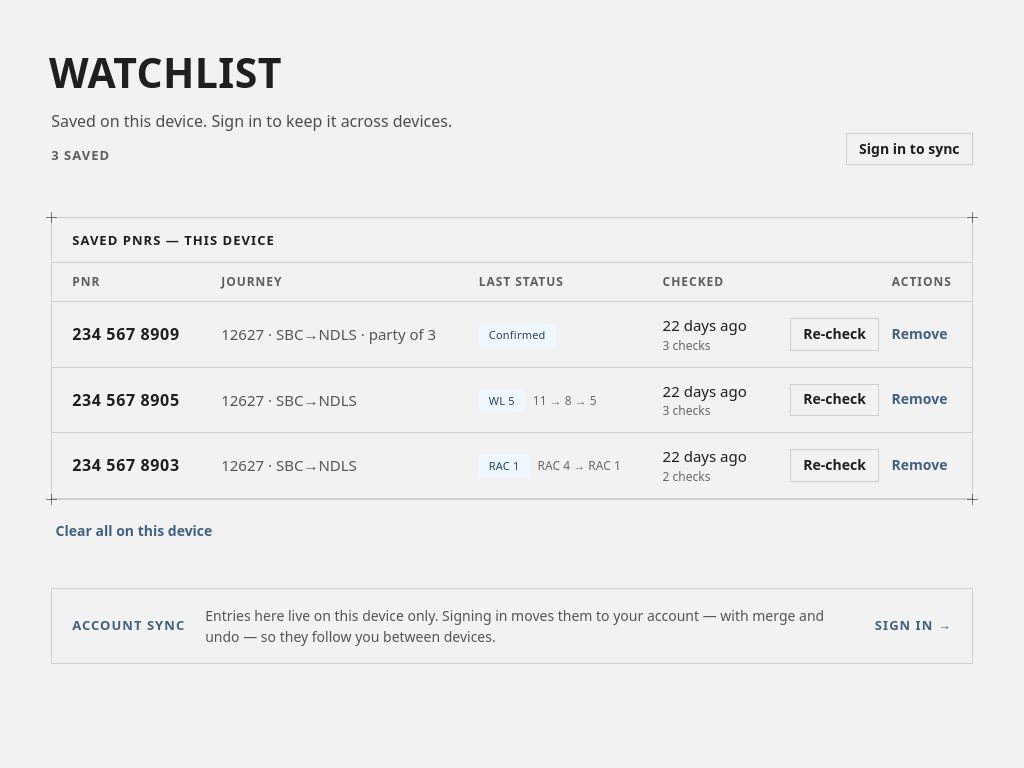
it: WatchlistView — this device › clears every entry on this device
Click the button "Clear all on this device" at x=134, y=532, box [51,516,217,548]
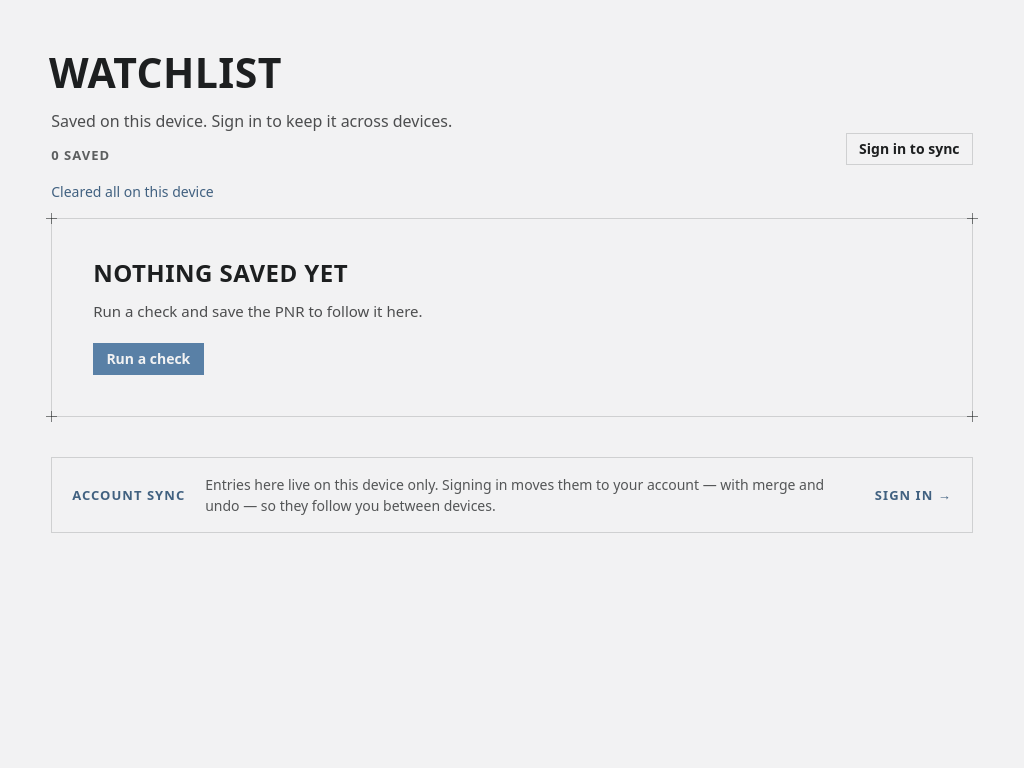
Expected: the text "Cleared all on this device" is shown, [51,182,214,201]
Expected: the heading "Nothing saved yet" is shown, [93,256,348,289]
